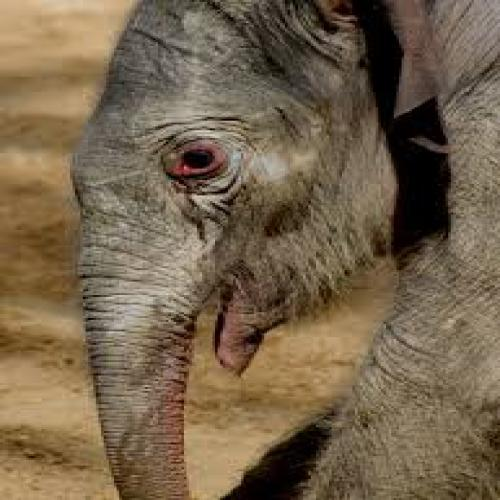asian_elephant-endangered: (70, 0, 500, 500)
